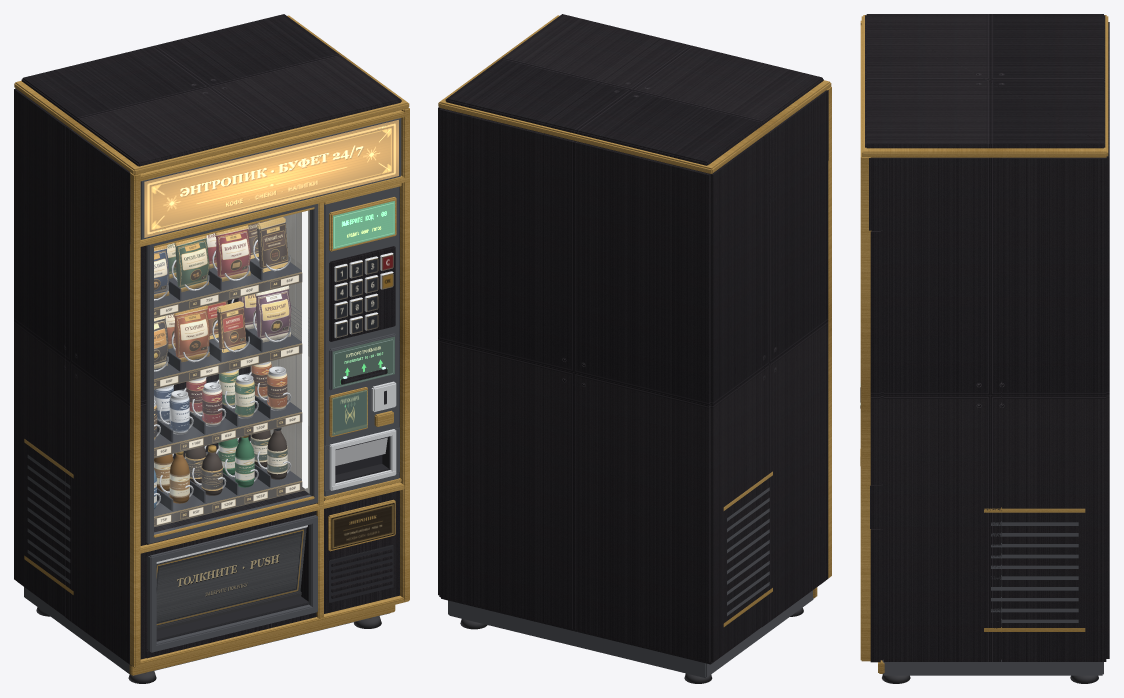
Rendered from prop_vending_machine.glb.
The picture shows the model from 3 angles, left to right: view 1: azimuth 30°, elevation 25°; view 2: azimuth 150°, elevation 25°; view 3: azimuth 270°, elevation 25°; orthographic projection. The views are drawn at different scales.
Visible parts, largest first — view 1: 01_vending_machine_body; view 2: 01_vending_machine_body; view 3: 01_vending_machine_body.
Part boxes in pixels (left/top/right/bottom): 01_vending_machine_body: left=14, top=14, right=409, bottom=683; 01_vending_machine_body: left=438, top=14, right=831, bottom=683; 01_vending_machine_body: left=860, top=14, right=1109, bottom=683.
Size of the model in its own units: 1.18 by 2.16 by 0.899.
23 materials, 13 textured.
